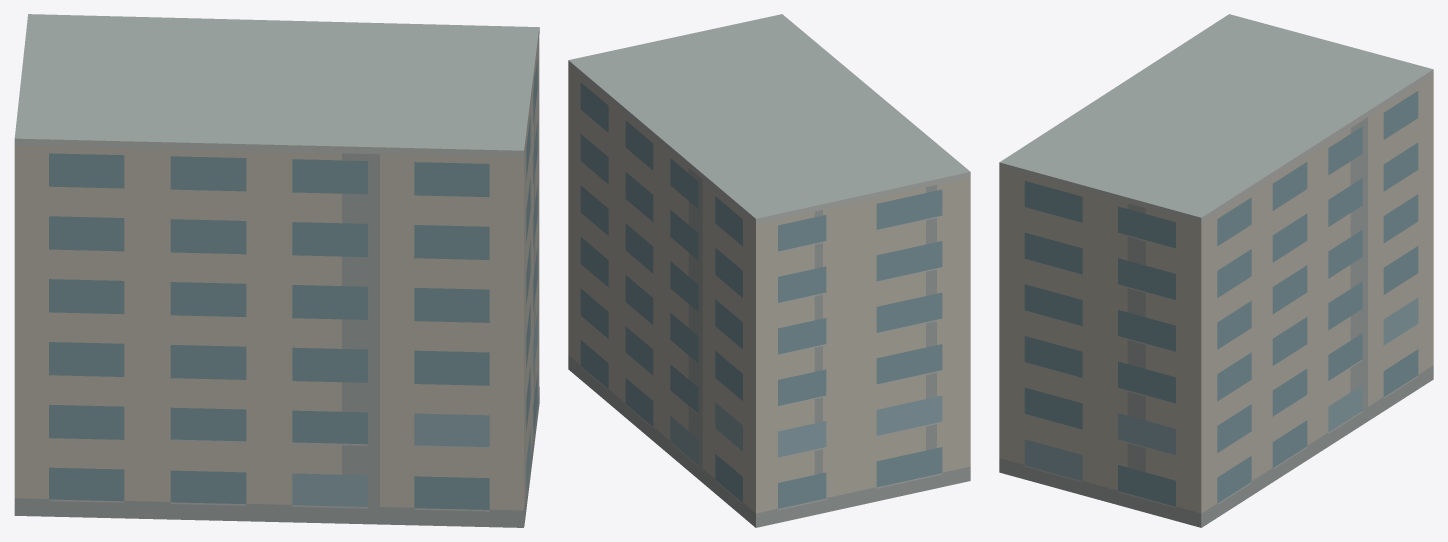
The model's file is survey-upis-32893679.glb.
The picture shows the model from 3 angles, left to right: view 1: azimuth 30°, elevation 25°; view 2: azimuth 150°, elevation 25°; view 3: azimuth 270°, elevation 25°; orthographic projection. The views are drawn at different scales.
Parts seen in each view (by area): view 1: survey-upis-32893679.tmp; view 2: survey-upis-32893679.tmp; view 3: survey-upis-32893679.tmp.
Part boxes in pixels (x1,y1,x2,y2): survey-upis-32893679.tmp: (14, 14, 539, 527); survey-upis-32893679.tmp: (568, 14, 970, 527); survey-upis-32893679.tmp: (999, 14, 1433, 527).
Size of the model in its own units: 18.47 by 13.1 by 16.64.
